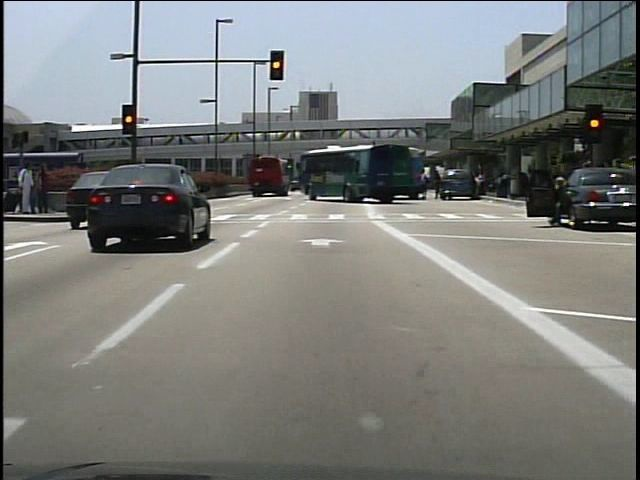person: (545, 171, 575, 229), (18, 161, 38, 215), (34, 162, 52, 220), (414, 167, 428, 201), (472, 169, 484, 199)
